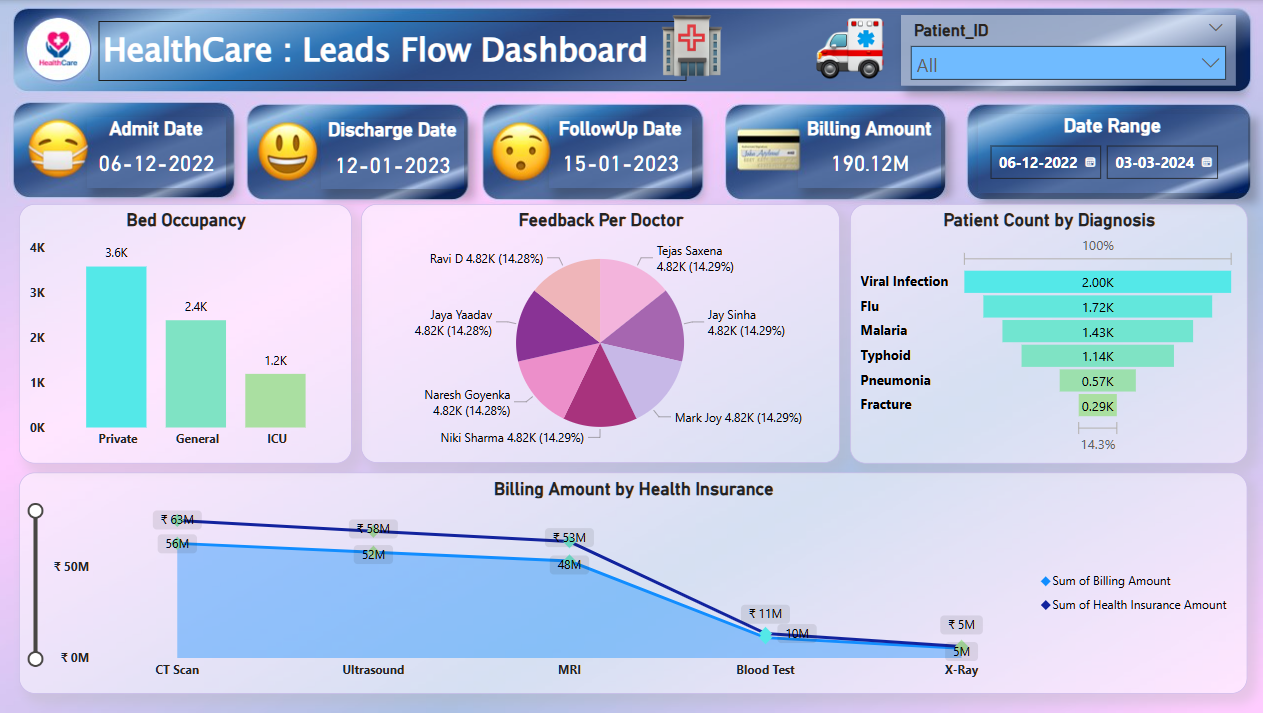

The dashboard page shown, as its layout file describes it:
{"tool":"powerbi","page":{"name":"Page 1","canvas":[1280,720],"ordinal":0},"visuals":[{"type":"textbox","box":[101.5,21.2,593.6,60.6],"z":0},{"type":"card","title":"Admit Date","fields":{"Values":["Sheet1.Admit_Date"]},"box":[89.3,118.1,140.8,71.2],"z":1000},{"type":"slicer","fields":{"Values":["Sheet1.Patient_ID"]},"box":[911.6,15.1,337.7,71.2],"z":2000},{"type":"card","title":"Discharge Date","fields":{"Values":["Sheet1.Discharge_Date"]},"box":[325.6,119.6,145.4,71.2],"z":3000},{"type":"card","title":"FollowUp Date","fields":{"Values":["Sheet1.Followup Date"]},"box":[555.7,118.1,145.4,71.2],"z":4000},{"type":"card","title":"Billing Amount","fields":{"Values":["Sheet1.Billing Amount"]},"box":[807.1,118.1,145.4,71.2],"z":5000},{"type":"slicer","title":"Date Range","fields":{"Values":["Sheet1.Admit_Date"]},"box":[988.8,115.1,272.6,80.3],"z":6000},{"type":"columnChart","title":"Bed Occupancy","fields":{"Category":["Sheet1.Bed_Occupancy"],"Y":["Sheet1.Patient_ID"]},"box":[21.2,205.9,336.2,262],"z":7000},{"type":"pieChart","title":" Feedback Per Doctor","fields":{"Y":["Sheet1.Feedback"],"Category":["Sheet1.Doctor"]},"box":[366.7,206.7,483.3,261.1],"z":8000},{"type":"funnel","title":"Patient Count by Diagnosis","fields":{"Category":["Sheet1.Diagnosis"],"Y":["Sheet1.Patient_ID"]},"box":[860,206.7,401.1,262.2],"z":9000},{"type":"lineChart","title":"Billing Amount by Health Insurance","fields":{"Y":["Sheet1.Billing Amount"],"Y2":["Sheet1.Health Insurance Amount"],"Category":["Sheet1.Test"]},"box":[20.9,477.3,1240,223.6],"z":10000},{"type":"image","box":[663.2,9.1,74.2,72.7],"z":11000},{"type":"image","box":[820.7,1.5,78.7,89.3],"z":12000}]}

Visuals, with their boxes in screenshot pixels (x1, y1, x2, y2), scaled from the page's 1280x720 canvas onto the 1263x713 screenshot:
textbox: rect(100, 21, 686, 81)
"Admit Date" card: rect(88, 117, 227, 187)
slicer - Sheet1.Patient_ID: rect(899, 15, 1233, 85)
"Discharge Date" card: rect(321, 118, 465, 189)
"FollowUp Date" card: rect(548, 117, 692, 187)
"Billing Amount" card: rect(796, 117, 940, 187)
"Date Range" slicer: rect(976, 114, 1245, 194)
"Bed Occupancy" columnChart: rect(21, 204, 353, 463)
" Feedback Per Doctor" pieChart: rect(362, 205, 839, 463)
"Patient Count by Diagnosis" funnel: rect(849, 205, 1244, 464)
"Billing Amount by Health Insurance" lineChart: rect(21, 473, 1244, 694)
image: rect(654, 9, 728, 81)
image: rect(810, 1, 887, 90)
